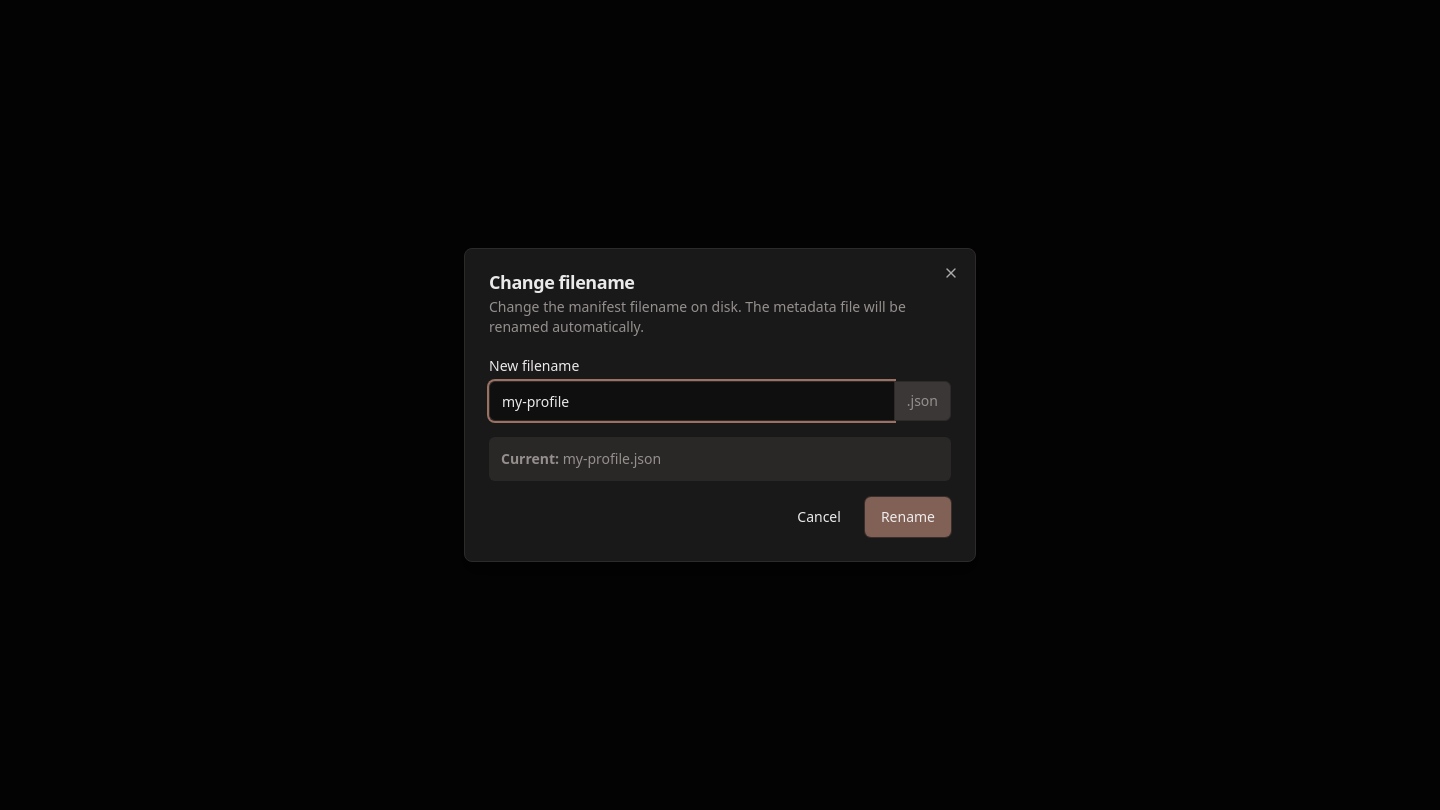
Test: RenameFileModal › Basename validation › shows error for Windows reserved names
Replace the text in the field with "CON": (691, 401) [489,381,894,421]
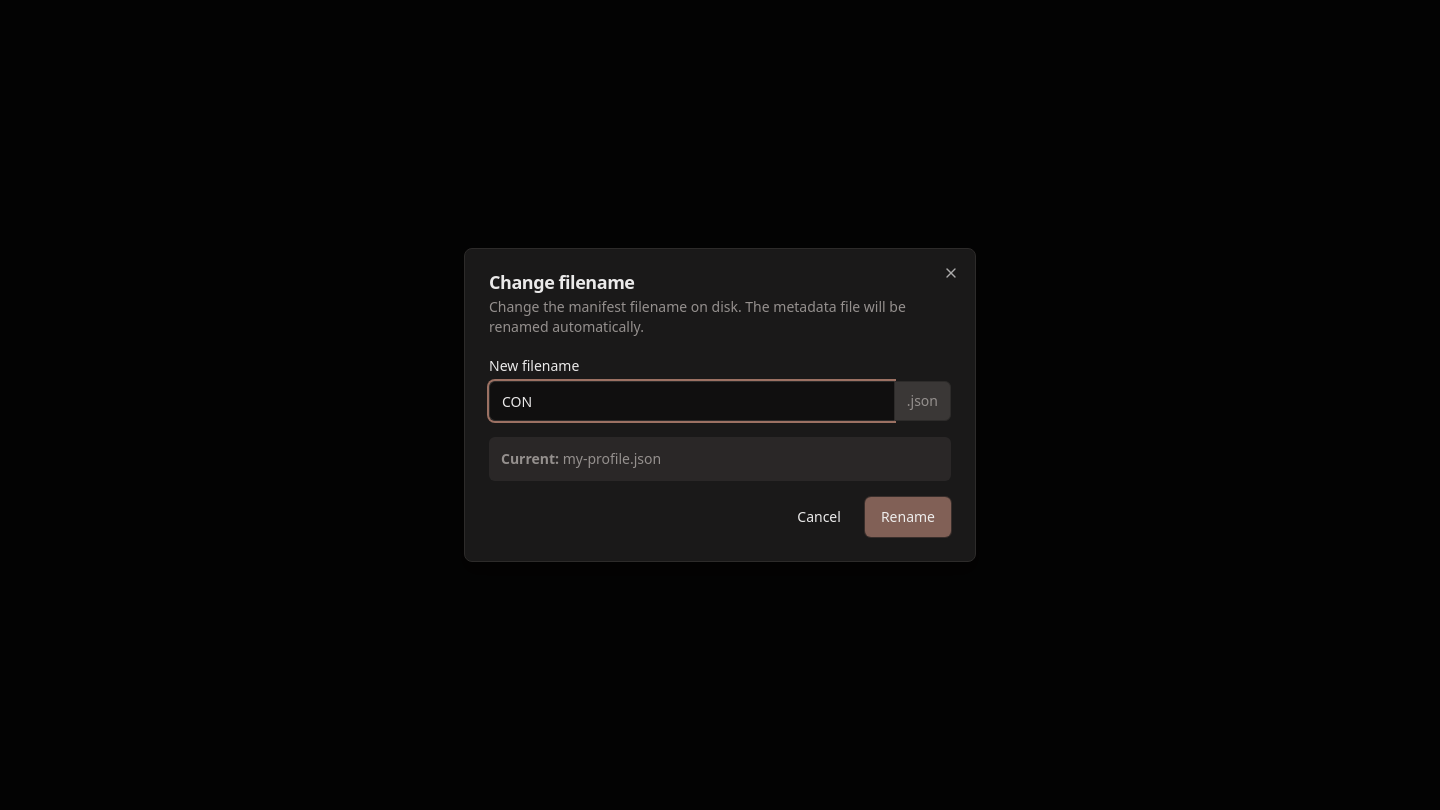
Click the button "Rename": (908, 517) [865,497,951,537]
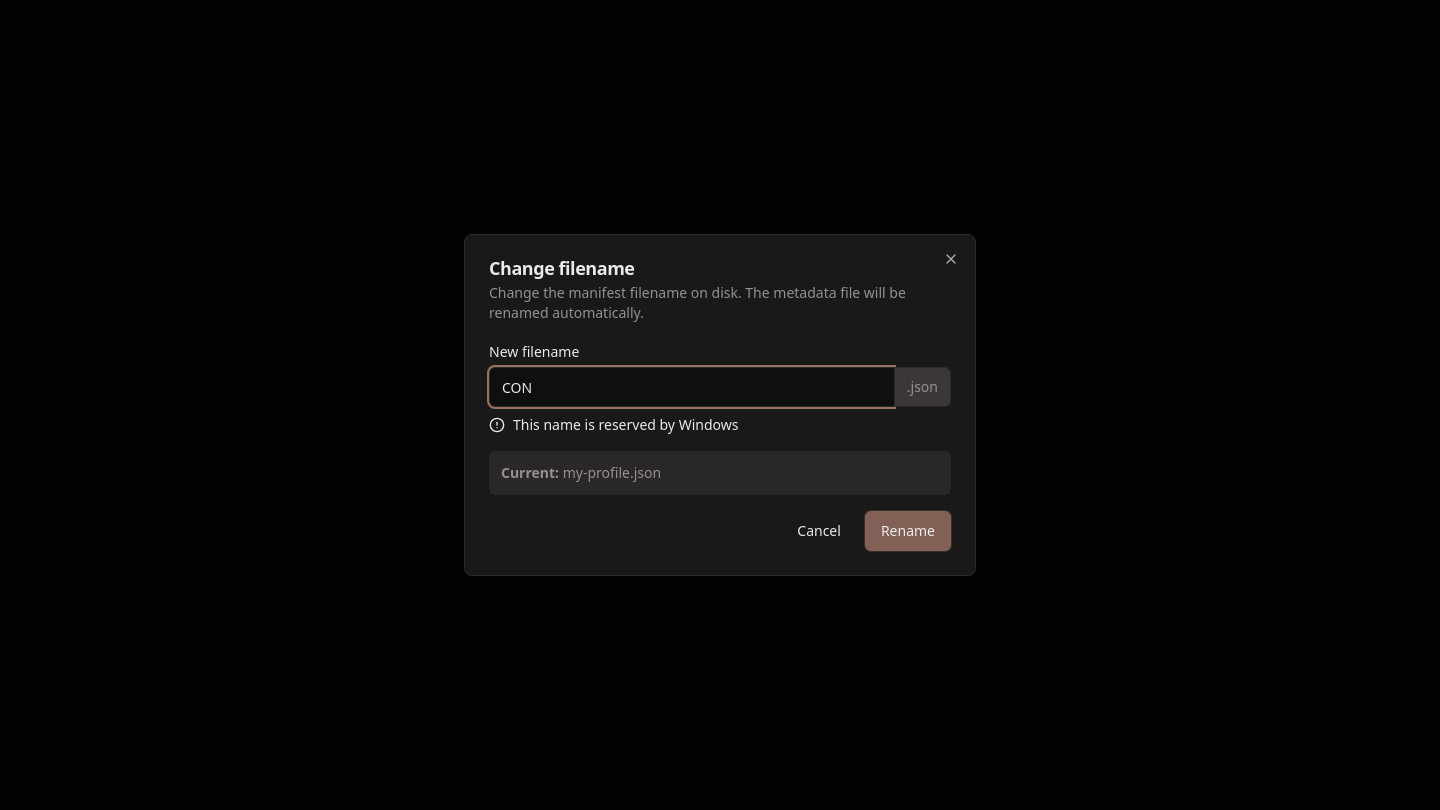
Expected: the text "This name is reserved by Windows" is shown, [489,415,738,434]
